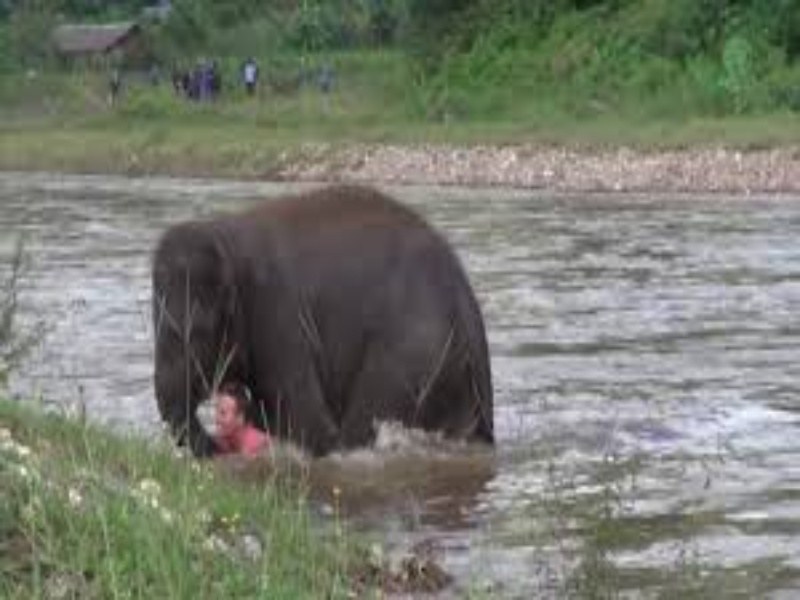elephant: (117, 151, 514, 466)
